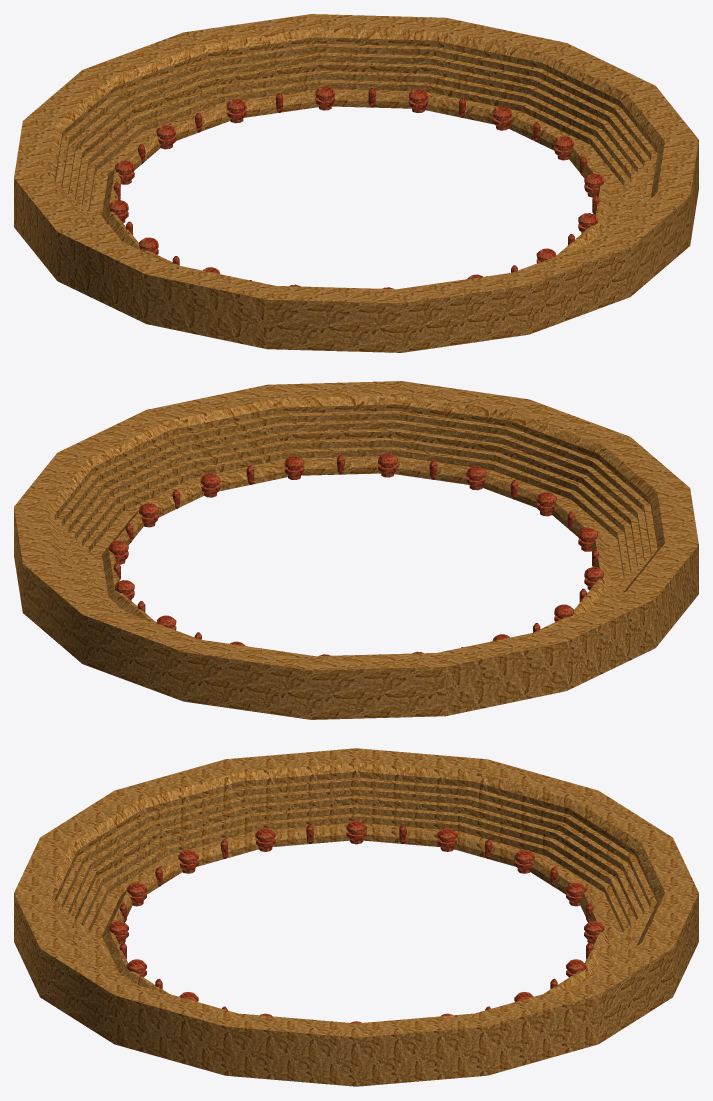
Rendered from colliseum.FBX.
The picture shows the model from 3 angles, top to bottom: view 1: azimuth 30°, elevation 25°; view 2: azimuth 150°, elevation 25°; view 3: azimuth 270°, elevation 25°; orthographic projection.
Visible parts, largest first — view 1: colliseum; view 2: colliseum; view 3: colliseum.
Boxes of the visible parts, <box> form: colliseum: <box>14,14,698,352</box>; colliseum: <box>14,381,698,719</box>; colliseum: <box>14,748,698,1086</box>.
Bounding box in the file's own units: 20263 × 1600 × 20263.
2 materials, 2 textured.
